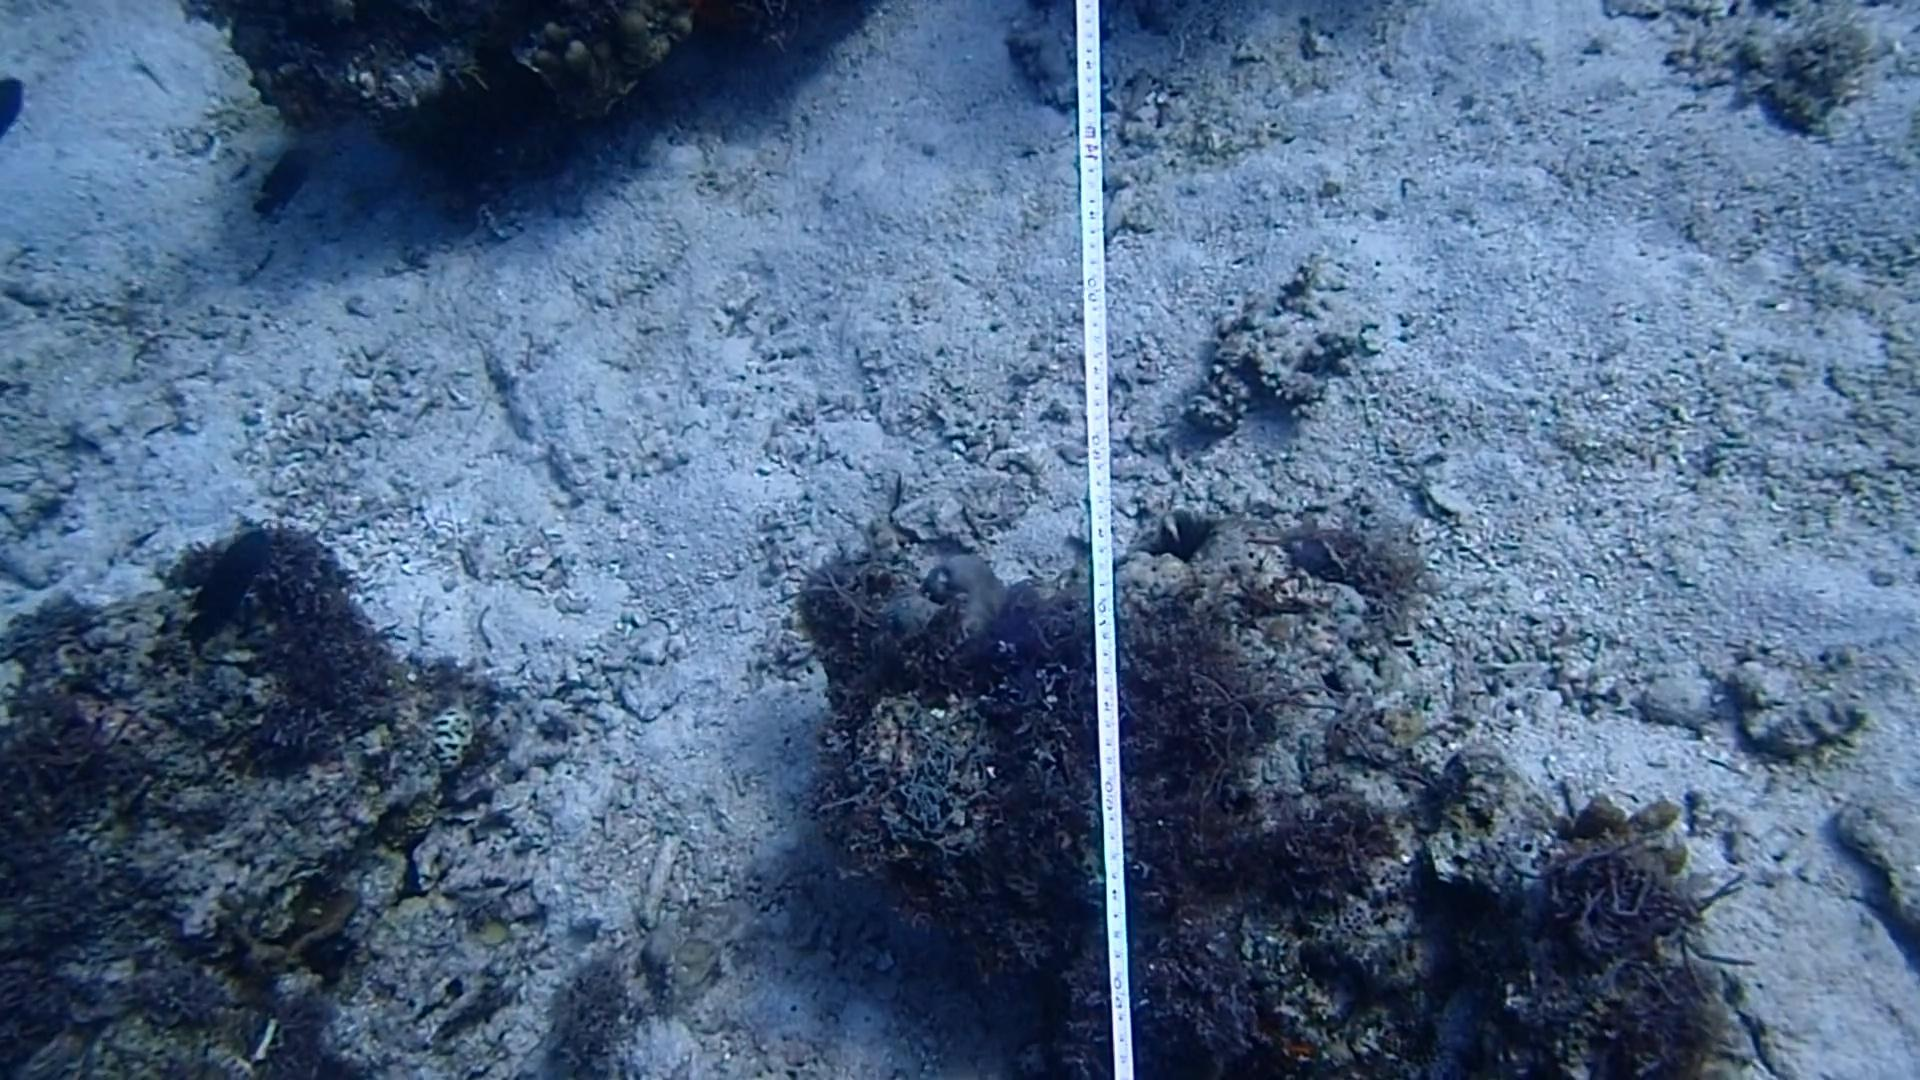Dark Fish: (179, 514, 290, 649), (248, 132, 324, 225)
